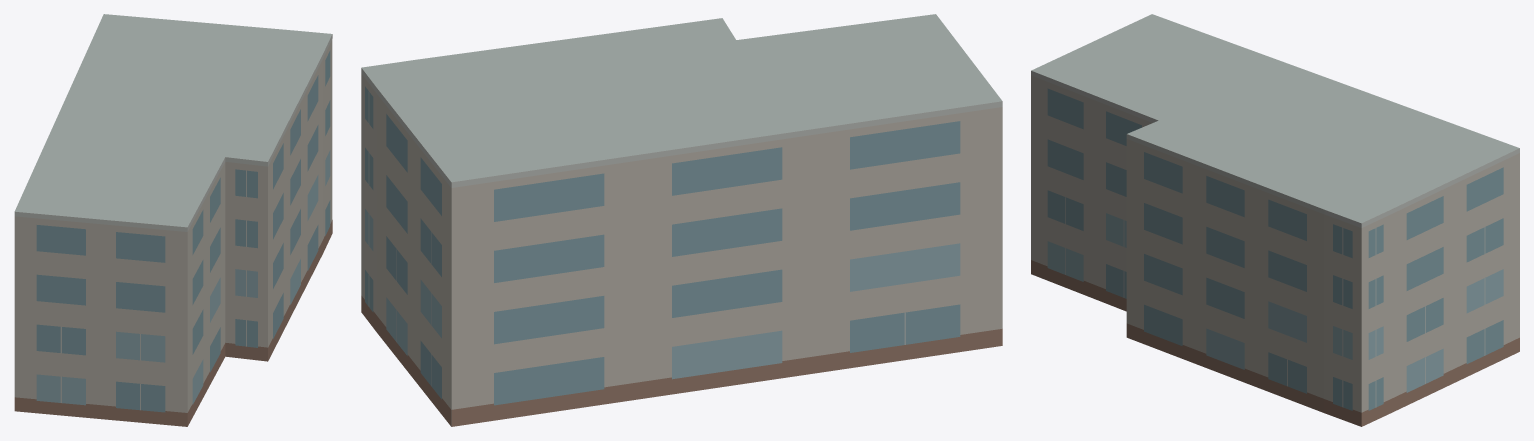
File: survey-upis-32534463.glb
3 views of the same model, side by side, from view 1: azimuth 30°, elevation 25°; view 2: azimuth 150°, elevation 25°; view 3: azimuth 270°, elevation 25° (orthographic). The views are drawn at different scales.
Visible parts, largest first — view 1: survey-upis-32534463.tmp; view 2: survey-upis-32534463.tmp; view 3: survey-upis-32534463.tmp.
Part boxes in pixels (box(x1,y1,x2,y2)): survey-upis-32534463.tmp: box(14, 14, 332, 426); survey-upis-32534463.tmp: box(361, 14, 1002, 426); survey-upis-32534463.tmp: box(1031, 14, 1519, 426).
Size of the model in its own units: 23.06 by 10.45 by 22.75.
